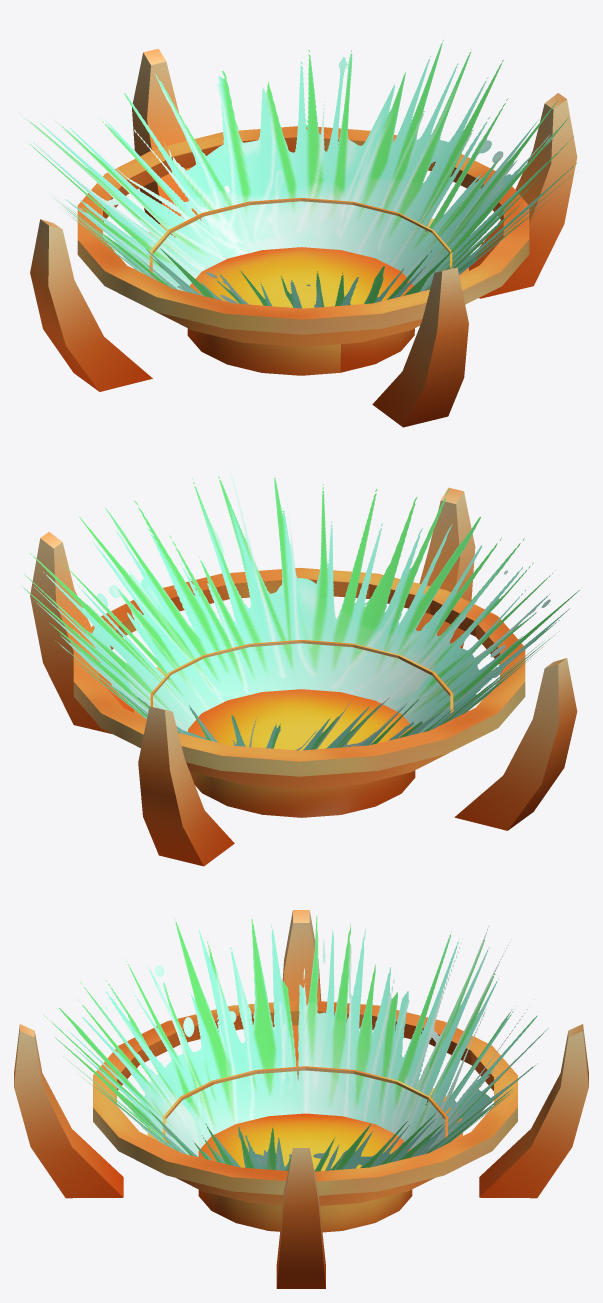
File: Sortie.FBX
3 views of the same model, one above another, from view 1: azimuth 30°, elevation 25°; view 2: azimuth 150°, elevation 25°; view 3: azimuth 270°, elevation 25° (orthographic). The views are drawn at different scales.
Parts seen in each view (by area): view 1: Sortie; view 2: Sortie; view 3: Sortie.
Part boxes in pixels (box(x1,y1,x2,y2)): Sortie: box(18, 40, 578, 427); Sortie: box(20, 463, 579, 866); Sortie: box(14, 910, 588, 1288).
Size of the model in its own units: 16.29 by 5.61 by 16.29.
